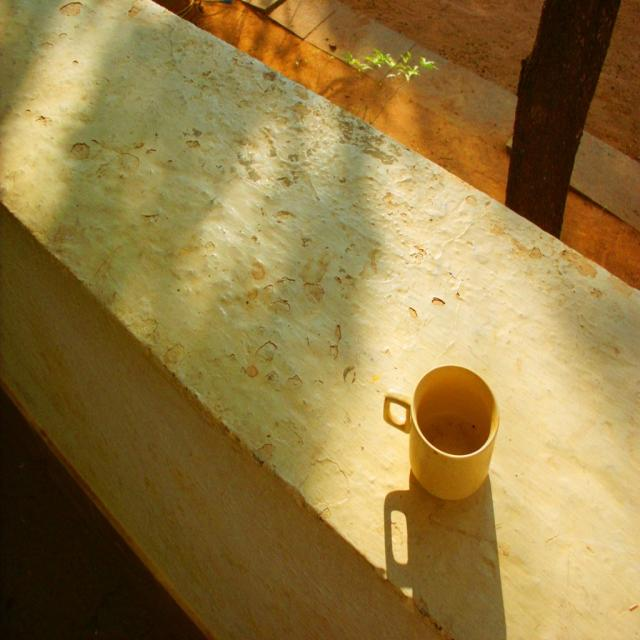Coffee: (424, 415, 480, 455)
